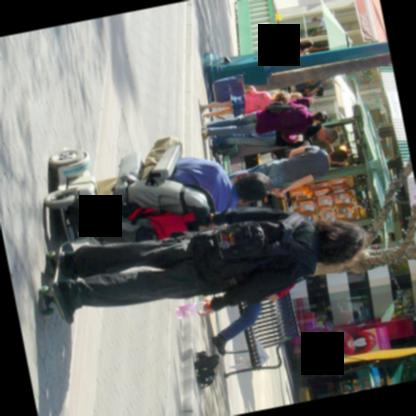backpack: (190, 212, 315, 285), (101, 200, 194, 242)
handbag: (210, 73, 248, 102), (264, 101, 305, 112), (214, 143, 233, 155)
